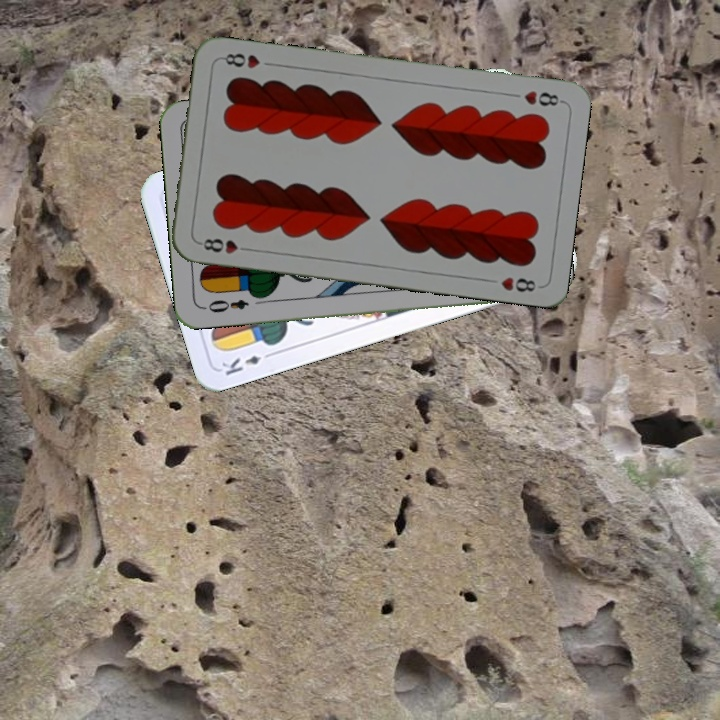EK: (217, 348, 276, 379)
EO: (199, 295, 251, 316)
H8: (195, 234, 254, 256), (520, 86, 565, 109)
